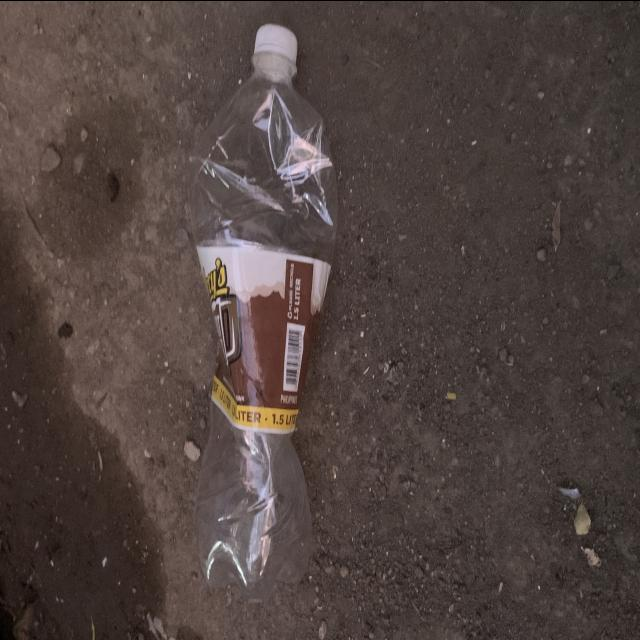Bottle: (190, 23, 337, 598)
